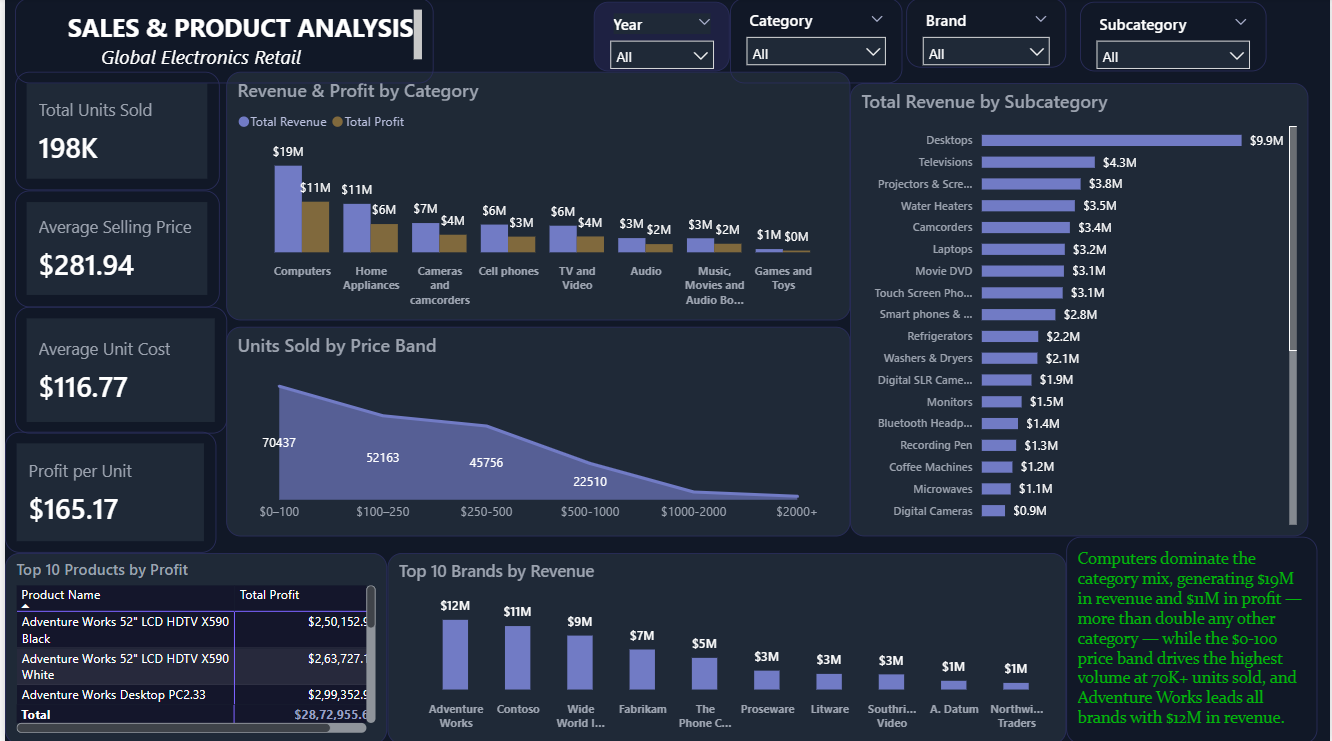

The page's visual inventory and layout, read from the dashboard file:
{"tool":"powerbi","page":{"name":"Sales & Product Analysis.","canvas":[1280,720],"ordinal":1},"visuals":[{"type":"cardVisual","fields":{"Data":["Customers.Total Units Sold"]},"box":[9.7,71.2,197.9,114.6],"z":0},{"type":"cardVisual","fields":{"Data":["Sales.Average Unit Cost"]},"box":[9.6,297.8,204.5,122.1],"z":1000},{"type":"cardVisual","fields":{"Data":["Sales.Profit per Unit"]},"box":[0,418.6,203.9,117],"z":2000},{"type":"cardVisual","fields":{"Data":["Sales.Average Selling Price"]},"box":[9.6,185.2,197.6,112.5],"z":3000},{"type":"clusteredColumnChart","title":"Revenue & Profit by Category","fields":{"Category":["Products.Category"],"Y":["Sales.Total Revenue","Sales.Total Profit"]},"box":[213.5,71.2,602,240.1],"z":4000},{"type":"columnChart","title":"Top 10 Brands by Revenue","fields":{"Category":["Products.Brand"],"Y":["Sales.Total Revenue"]},"box":[369.2,535.7,655.1,184.6],"z":5000},{"type":"pivotTable","title":"Top 10 Products by Profit","fields":{"Rows":["Products.Product Name"],"Values":["Sales.Total Profit"]},"box":[0,535.7,369.2,184.6],"z":6000},{"type":"stackedAreaChart","title":"Units Sold by Price Band","fields":{"Category":["Products.Price band"],"Y":["Customers.Total Units Sold"]},"box":[213.5,317.3,602,202.7],"z":7000},{"type":"clusteredBarChart","fields":{"Category":["Products.Subcategory"],"Y":["Sales.Total Revenue"]},"box":[815.6,82,442.8,437.9],"z":8000},{"type":"textbox","box":[9.7,0,404.2,82],"z":9000},{"type":"slicer","fields":{"Values":["Products.Category"]},"box":[699.7,0,166.5,82],"z":10000},{"type":"slicer","fields":{"Values":["Products.Subcategory"]},"box":[1037.5,3.6,179.8,67.6],"z":11000},{"type":"slicer","fields":{"Values":["Products.Brand"]},"box":[869.8,0,154.4,67.6],"z":12000},{"type":"textbox","box":[1024.3,520,242.5,200.3],"z":13000},{"type":"slicer","fields":{"Values":["DateTable.Year"]},"box":[568.2,3.6,131.5,67.6],"z":13001}]}

Visuals, with their boxes in screenshot pixels (x1, y1, x2, y2), scaled from the page's 1280x720 canvas onto the 1332x741 screenshot:
cardVisual - Customers.Total Units Sold: 10:73:216:191
cardVisual - Sales.Average Unit Cost: 10:306:223:432
cardVisual - Sales.Profit per Unit: 0:431:212:551
cardVisual - Sales.Average Selling Price: 10:191:216:306
"Revenue & Profit by Category" clusteredColumnChart: 222:73:849:320
"Top 10 Brands by Revenue" columnChart: 384:551:1066:740
"Top 10 Products by Profit" pivotTable: 0:551:384:740
"Units Sold by Price Band" stackedAreaChart: 222:327:849:535
clusteredBarChart - Products.Subcategory x Sales.Total Revenue: 849:84:1310:535
textbox: 10:0:431:84
slicer - Products.Category: 728:0:901:84
slicer - Products.Subcategory: 1080:4:1267:73
slicer - Products.Brand: 905:0:1066:70
textbox: 1066:535:1318:740
slicer - DateTable.Year: 591:4:728:73
